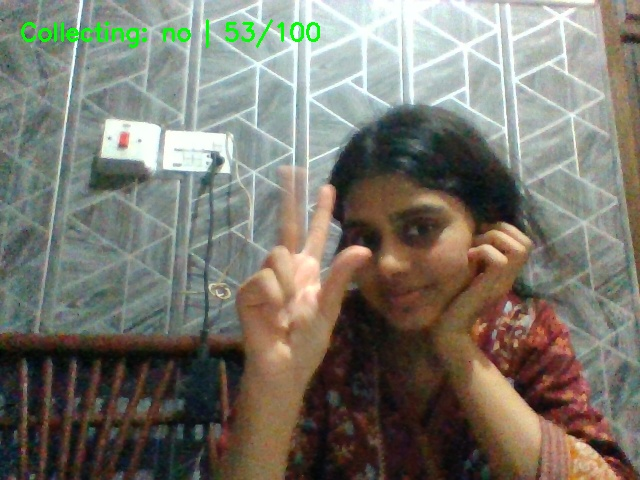no: (224, 150, 370, 405)
